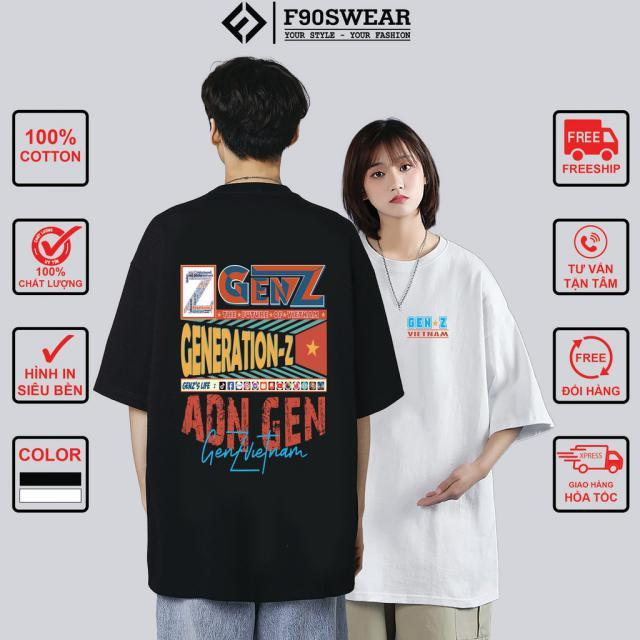Shirt: (92, 175, 402, 600)
